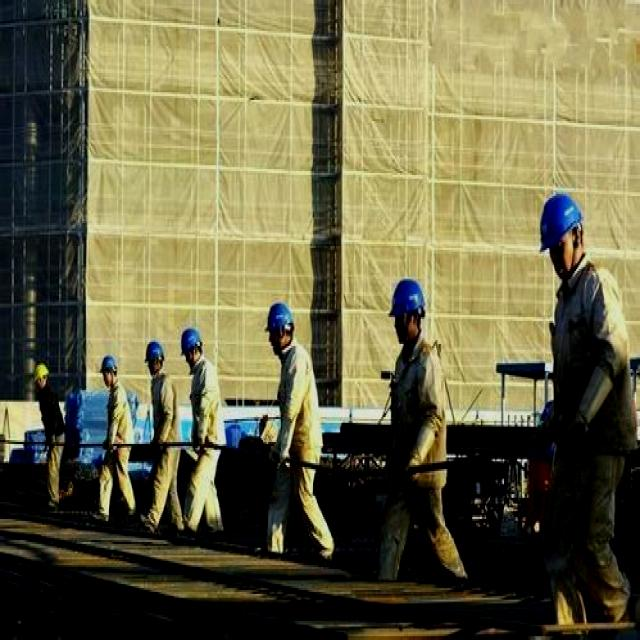face_nomask: (549, 237, 578, 280), (390, 309, 413, 350), (267, 330, 285, 356)
hand_glove: (563, 375, 617, 455), (408, 430, 435, 473), (278, 423, 302, 469), (192, 415, 210, 454), (155, 421, 173, 453), (108, 424, 119, 452)
head_helmet: (540, 190, 591, 244), (388, 277, 424, 313), (265, 302, 295, 328), (180, 326, 202, 352), (145, 342, 163, 363), (32, 362, 50, 381), (102, 354, 120, 369)
person: (529, 185, 627, 616), (383, 274, 449, 574), (266, 306, 323, 561), (184, 317, 228, 540), (145, 338, 181, 534), (100, 359, 133, 523), (36, 359, 65, 512)
